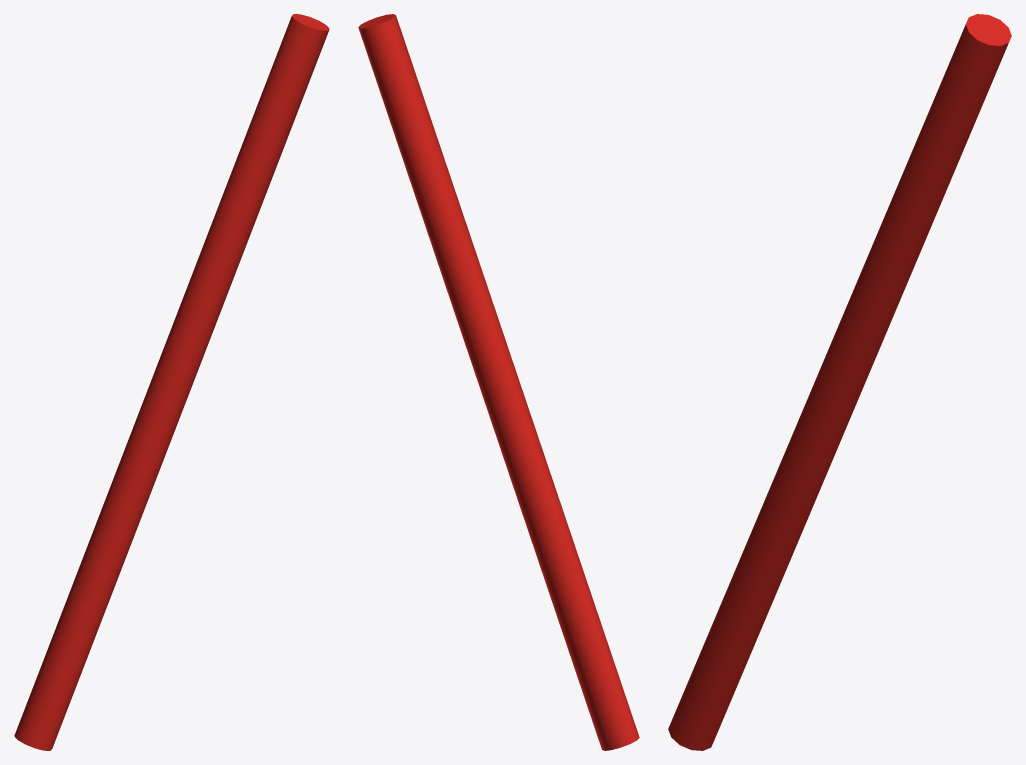
The model's file is left_front_arm.obj.
The picture shows the model from 3 angles, left to right: view 1: azimuth 30°, elevation 25°; view 2: azimuth 150°, elevation 25°; view 3: azimuth 330°, elevation 25°; orthographic projection. The views are drawn at different scales.
Visible parts, largest first — view 1: left_front_arm; view 2: left_front_arm; view 3: left_front_arm.
Part boxes in pixels (x1,y1,x2,y2): left_front_arm: [14, 14, 329, 750]; left_front_arm: [358, 14, 639, 750]; left_front_arm: [668, 14, 1011, 750].
Bounding box in the file's own units: 0.1849 × 0.4056 × 0.037.
